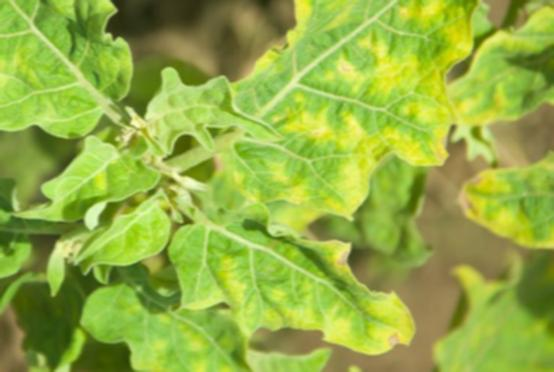Tomato leaf mosaic virus: (207, 0, 549, 217), (156, 205, 426, 361), (0, 0, 125, 162), (22, 130, 152, 235), (137, 77, 283, 157)
